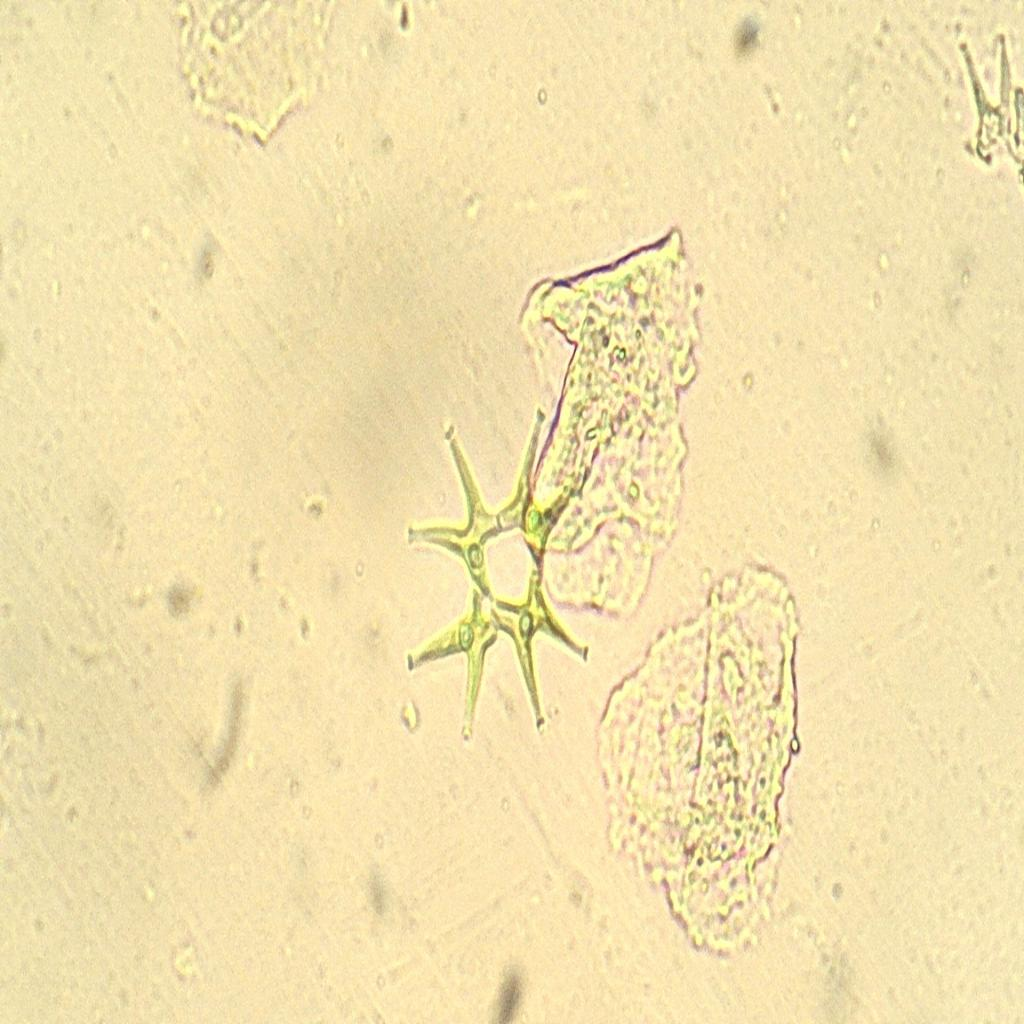Pediastrum_CF: (376, 370, 616, 764)
